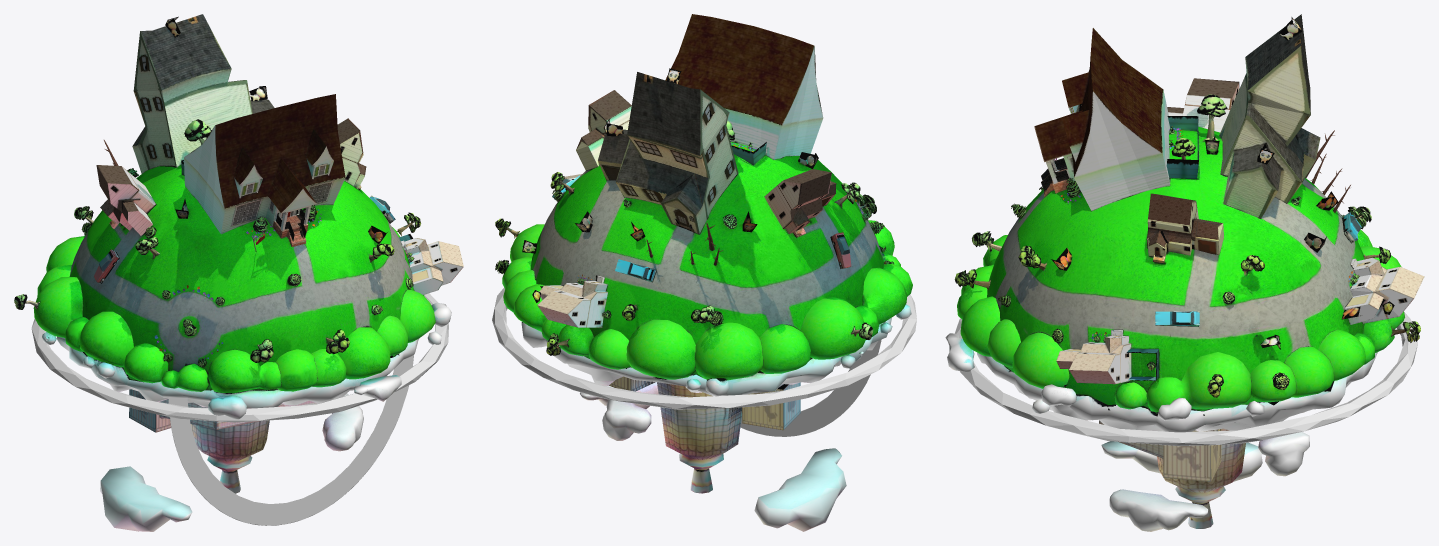
File: BabyBossOtimizadoMobile.fbx
3 renders of one model, left to right at view 1: azimuth 30°, elevation 25°; view 2: azimuth 150°, elevation 25°; view 3: azimuth 270°, elevation 25°, orthographic. The views are drawn at different scales.
Visible parts, largest first — view 1: Sphere001.001, Cube, Sphere001.002, Arc001, NuvensBake, Casinhas.Baked, Torus.001, baby corp.002, NuvensBake.001, Tree_04.001, NuvensBake.003, ArbustoBake.001 (+2 smaller); view 2: Sphere001.001, Cube, Sphere001.002, Casinhas.Baked, Torus.001, baby corp.002, NuvensBake, NuvensBake.001, Arc001, NuvensBake.002, Cube.002, Tree_04.001 (+4 smaller); view 3: Sphere001.001, Cube, Sphere001.002, Casinhas.Baked, NuvensBake, Torus.001, baby corp.002, NuvensBake.003, Tree_04.003, Cube.002, NuvensBake.002, Cars_Fences_Baked (+4 smaller).
Part boxes in pixels (x1=…): Sphere001.001: x1=69, y1=165, x2=414, y2=390; Cube: x1=132, y1=14, x2=345, y2=246; Sphere001.002: x1=33, y1=227, x2=435, y2=393; Arc001: x1=168, y1=354, x2=414, y2=525; NuvensBake: x1=42, y1=302, x2=451, y2=419; Casinhas.Baked: x1=96, y1=118, x2=463, y2=294; Torus.001: x1=31, y1=293, x2=448, y2=422; baby corp.002: x1=129, y1=389, x2=316, y2=493; NuvensBake.001: x1=100, y1=466, x2=192, y2=531; Tree_04.001: x1=14, y1=119, x2=273, y2=362; NuvensBake.003: x1=322, y1=393, x2=363, y2=451; ArbustoBake.001: x1=81, y1=168, x2=413, y2=366; Sphere001.001: x1=530, y1=142, x2=883, y2=379; Cube: x1=598, y1=14, x2=823, y2=234; Sphere001.002: x1=502, y1=220, x2=912, y2=380; Casinhas.Baked: x1=537, y1=90, x2=836, y2=327; Torus.001: x1=492, y1=287, x2=916, y2=409; baby corp.002: x1=609, y1=376, x2=800, y2=493; NuvensBake: x1=519, y1=233, x2=911, y2=396; NuvensBake.001: x1=754, y1=448, x2=846, y2=531; Arc001: x1=740, y1=339, x2=881, y2=436; NuvensBake.002: x1=602, y1=399, x2=651, y2=440; Cube.002: x1=522, y1=68, x2=818, y2=302; Tree_04.001: x1=691, y1=121, x2=876, y2=339; Sphere001.001: x1=987, y1=126, x2=1364, y2=415; Cube: x1=1034, y1=14, x2=1320, y2=218; Sphere001.002: x1=957, y1=229, x2=1404, y2=411; Casinhas.Baked: x1=1056, y1=78, x2=1424, y2=384; NuvensBake: x1=945, y1=333, x2=1377, y2=432; Torus.001: x1=955, y1=312, x2=1417, y2=446; baby corp.002: x1=1099, y1=420, x2=1245, y2=528; NuvensBake.003: x1=1109, y1=489, x2=1208, y2=531; Tree_04.003: x1=954, y1=138, x2=1420, y2=397; Cube.002: x1=1051, y1=17, x2=1394, y2=349; NuvensBake.002: x1=1258, y1=432, x2=1309, y2=476; Cars_Fences_Baked: x1=1126, y1=116, x2=1198, y2=380.
Bounding box in the file's own units: 4128 × 4682 × 3968.
